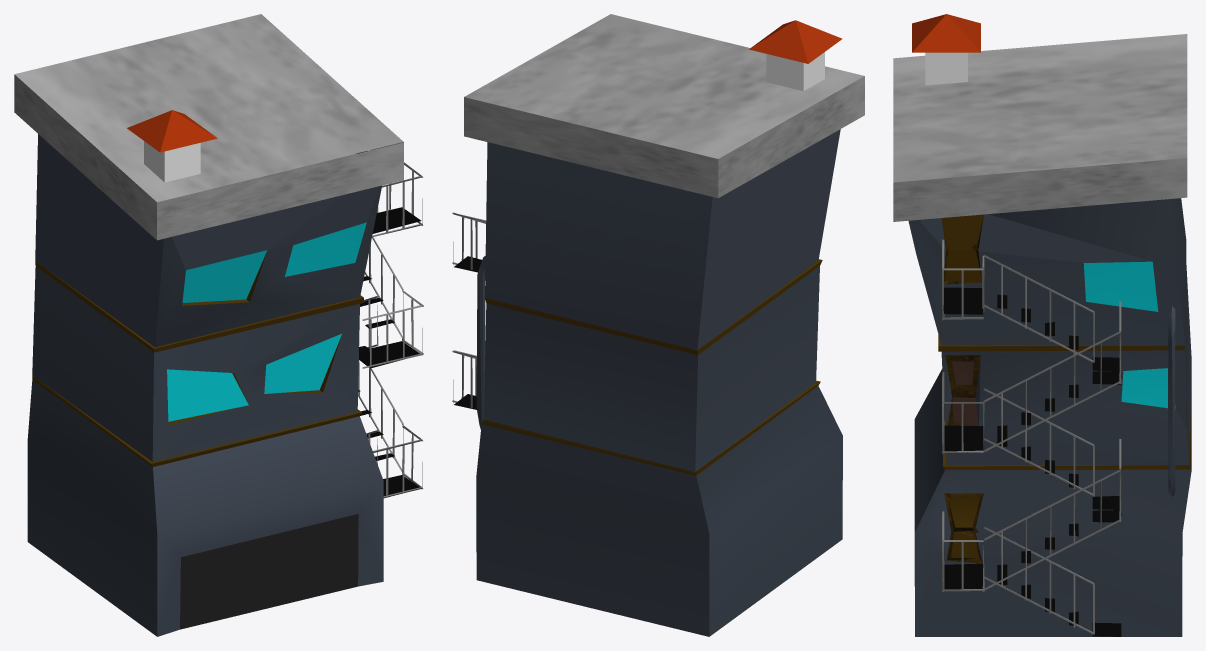
The model's file is PredioTorto-CinzaEscuroLOD1.fbx.
The picture shows the model from 3 angles, left to right: view 1: azimuth 30°, elevation 25°; view 2: azimuth 150°, elevation 25°; view 3: azimuth 270°, elevation 25°; orthographic projection. The views are drawn at different scales.
Visible parts, largest first — view 1: Predio3AndaresLOD1; view 2: Predio3AndaresLOD1; view 3: Predio3AndaresLOD1.
Boxes of the visible parts, box(x1,y1,x2,y2) form: Predio3AndaresLOD1: box(14, 14, 423, 636); Predio3AndaresLOD1: box(452, 14, 864, 636); Predio3AndaresLOD1: box(893, 14, 1191, 636).
Bounding box in the file's own units: 1035 × 1727 × 892.
